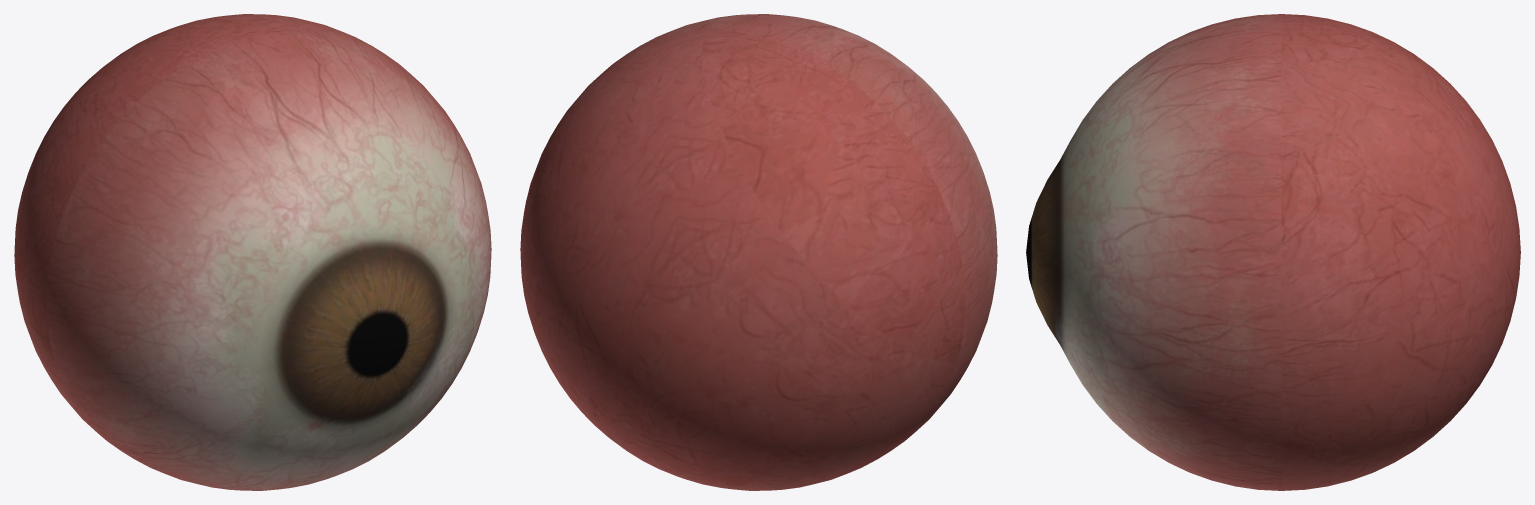
Rendered from eye.glb.
3 views of the same model, side by side, from view 1: azimuth 30°, elevation 25°; view 2: azimuth 150°, elevation 25°; view 3: azimuth 270°, elevation 25° (orthographic).
Visible parts, largest first — view 1: Sphere_002; view 2: Sphere_002; view 3: Sphere_002.
Part boxes in pixels (x1,y1,x2,y2): Sphere_002: (14,14,491,490); Sphere_002: (520,14,997,490); Sphere_002: (1026,14,1520,490).
Size of the model in its own units: 0.1245 by 0.1245 by 0.1291.
Materials: 1 (1 with a texture image).
